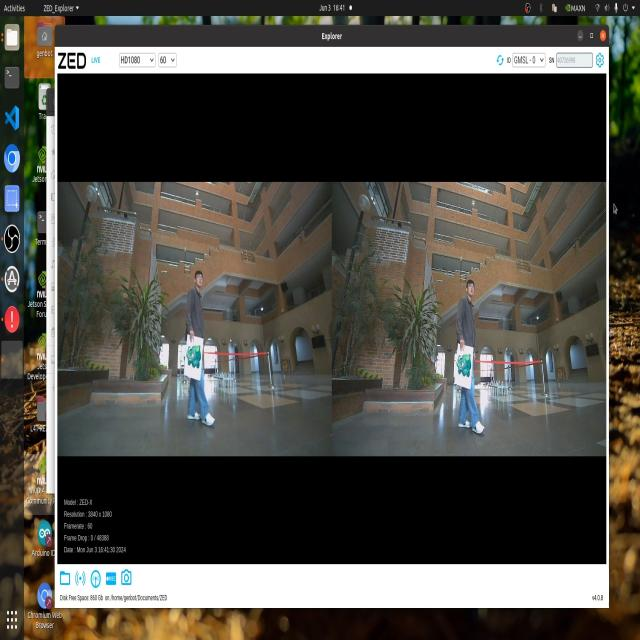green: (172, 334, 204, 385), (456, 346, 473, 396)
